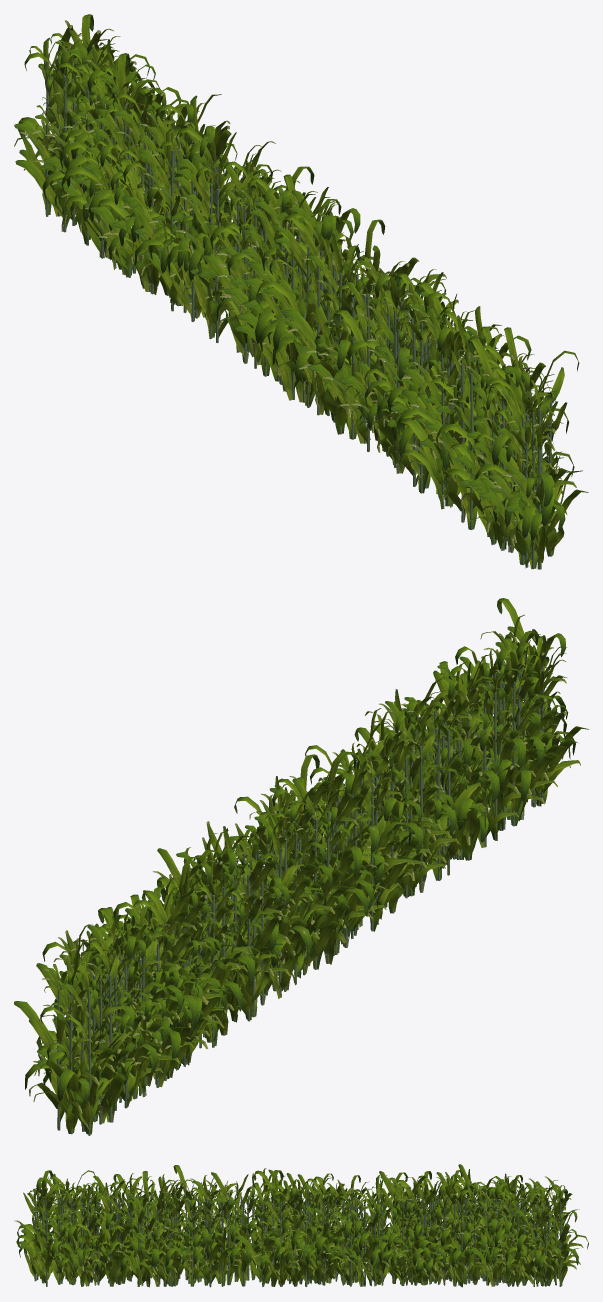
The model's file is milharal1x50_denso6.fbx.
3 views of the same model, one above another, from view 1: azimuth 30°, elevation 25°; view 2: azimuth 150°, elevation 25°; view 3: azimuth 270°, elevation 25° (orthographic). The views are drawn at different scales.
Visible parts, largest first — view 1: Plantacao2; view 2: Plantacao2; view 3: Plantacao2.
Boxes of the visible parts, <box> form: Plantacao2: <box>14,14,588,569</box>; Plantacao2: <box>14,598,588,1135</box>; Plantacao2: <box>14,1164,588,1287</box>.
Bounding box in the file's own units: 739 × 1158 × 5408.
